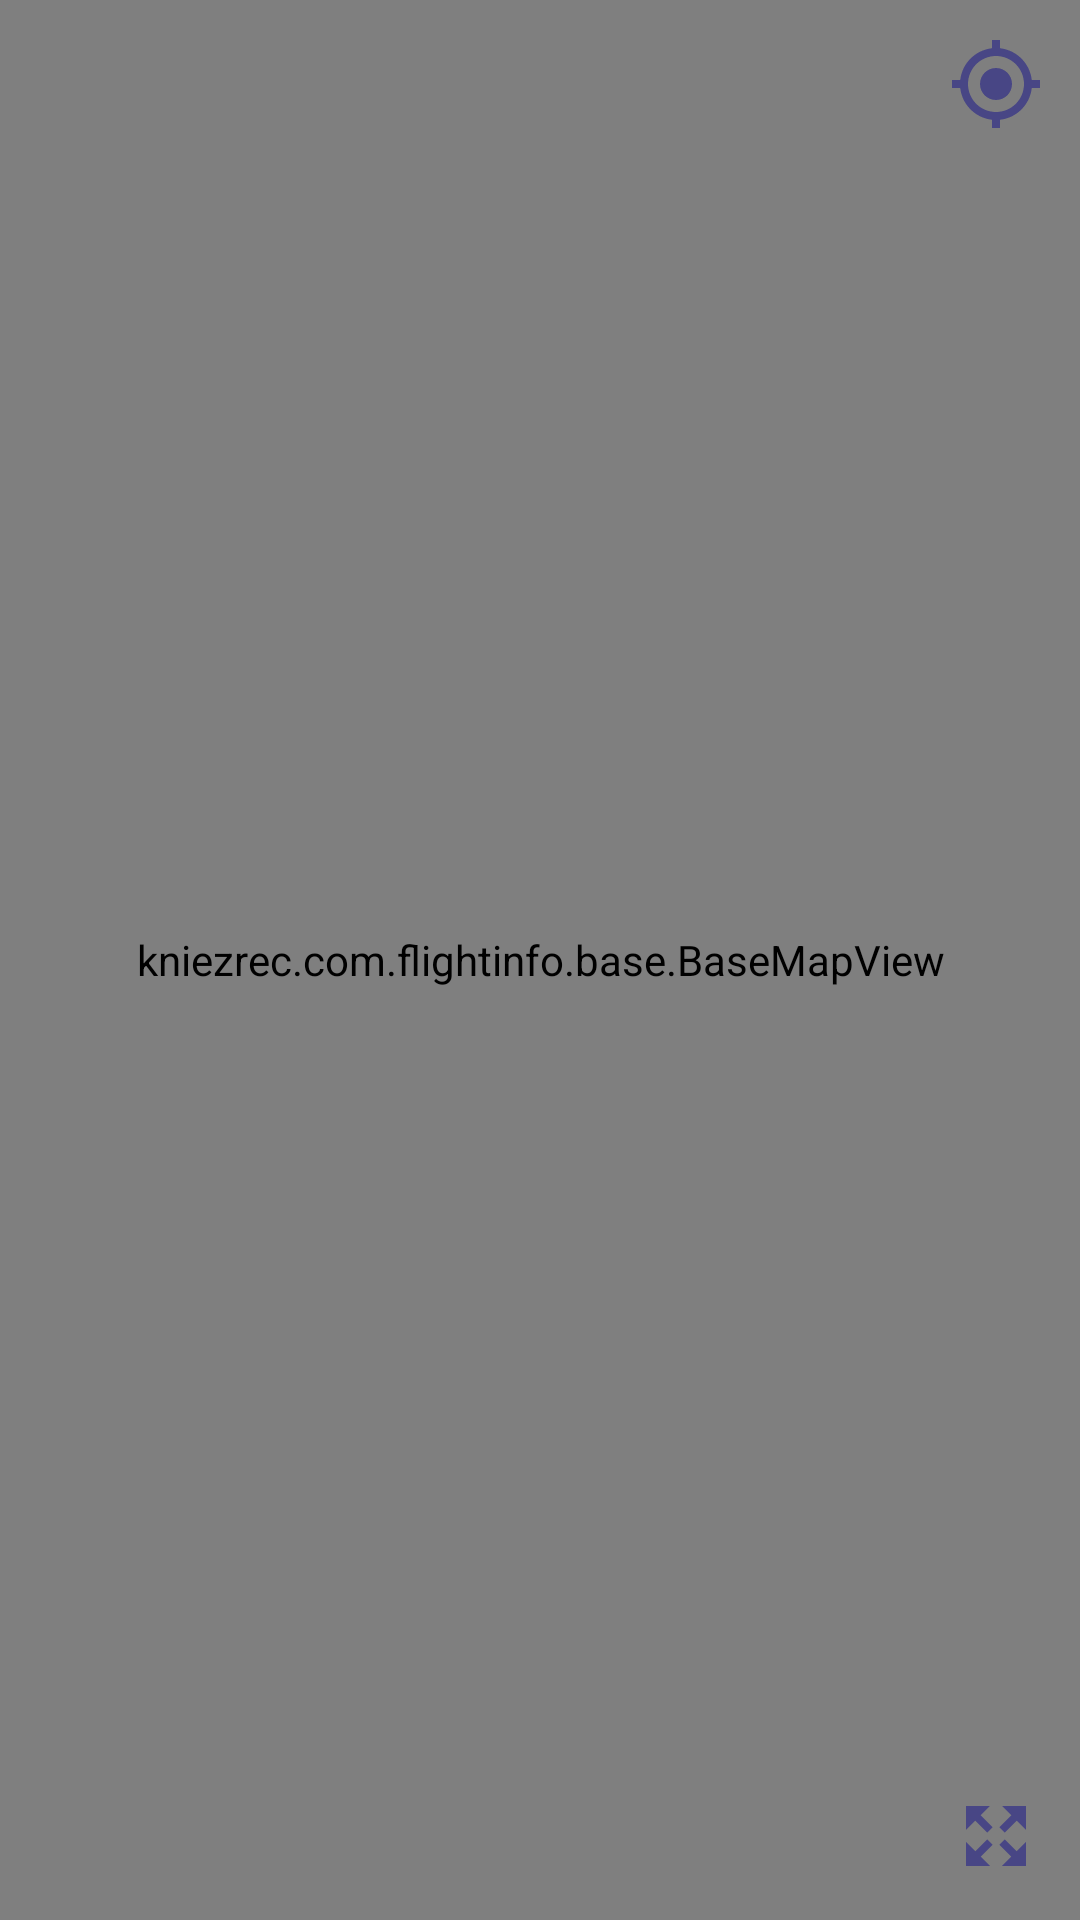

Locate icon controls on the screen. Image size 1080px×1920px, boxes as (x1, y1, x2, y2).
expand: (966, 1806, 1026, 1866)
